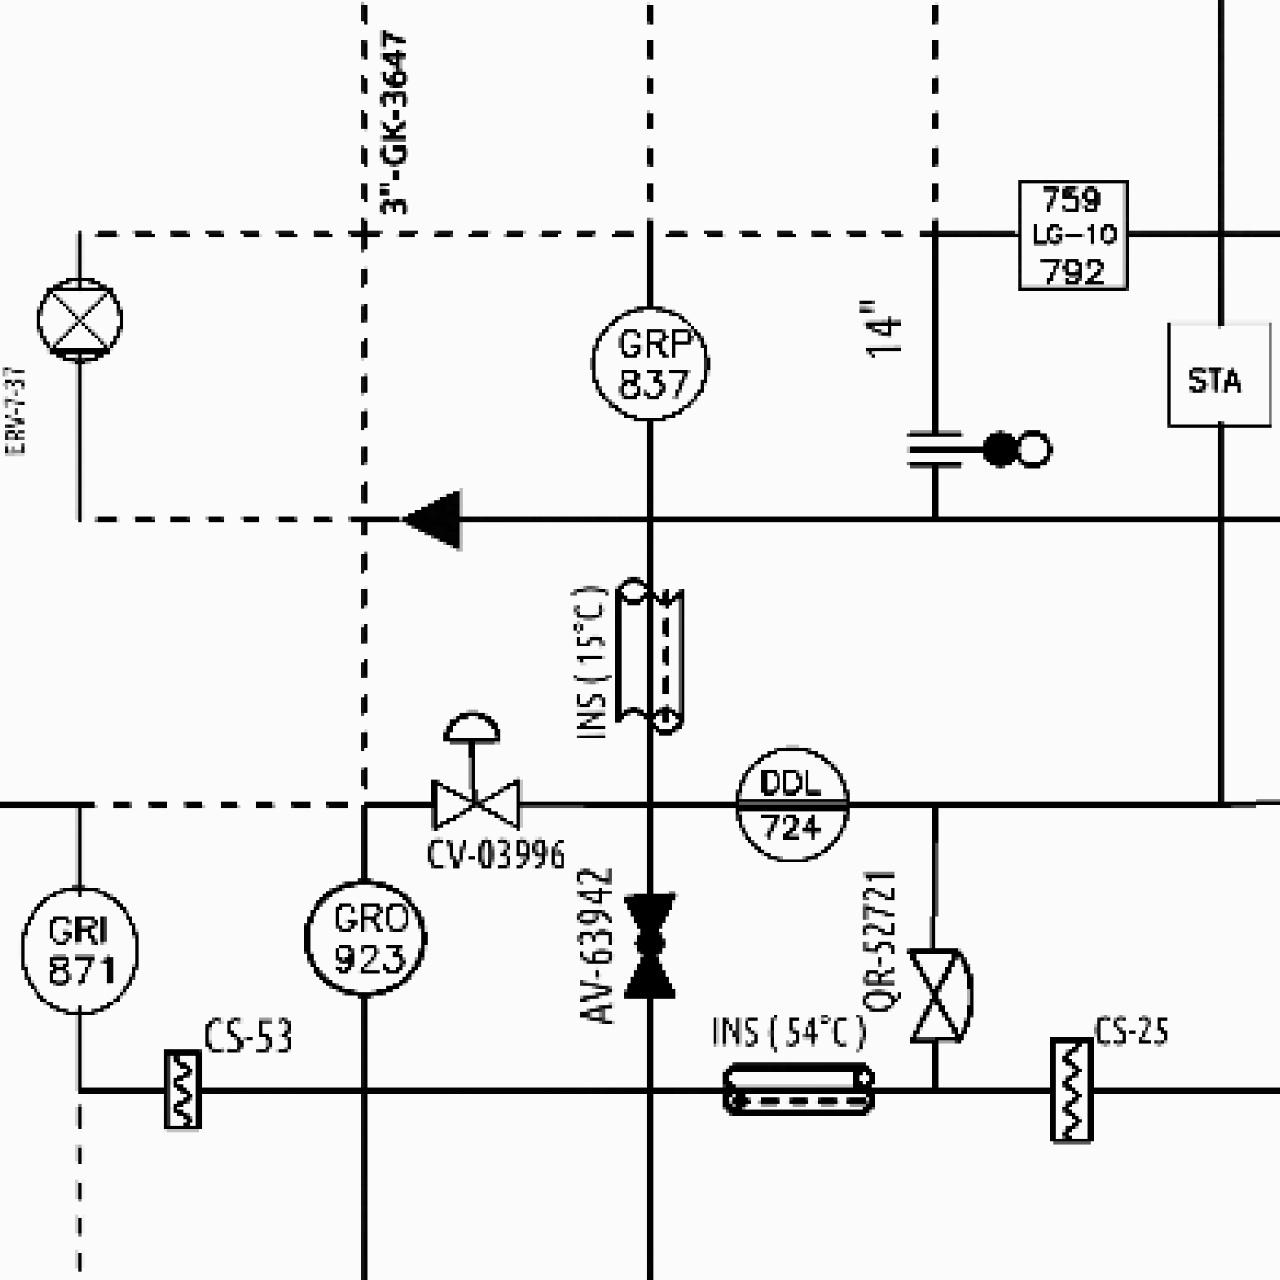Control-Panel: (728, 741, 855, 866)
